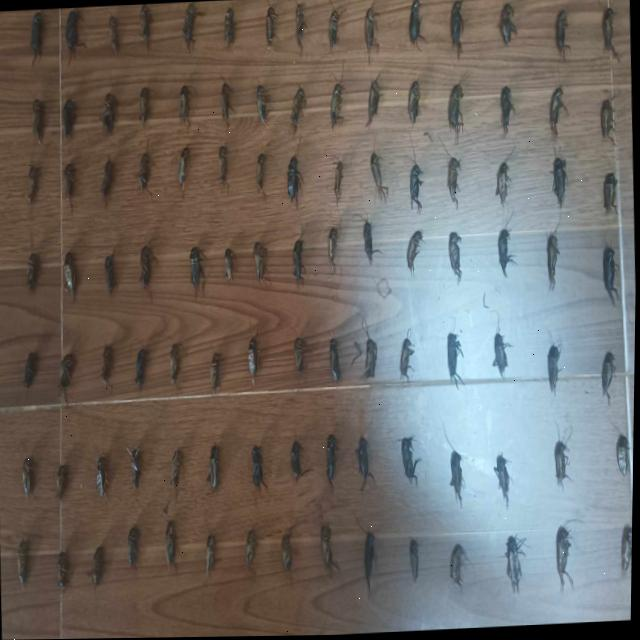no egg: (602, 15, 619, 62), (496, 469, 514, 509), (451, 461, 466, 509), (371, 164, 389, 203), (602, 356, 617, 401), (604, 262, 619, 306), (365, 549, 379, 596), (550, 100, 567, 136), (552, 169, 567, 209), (405, 451, 422, 486), (555, 24, 571, 61), (501, 95, 514, 137), (449, 245, 463, 284), (358, 454, 375, 486), (507, 554, 523, 588), (450, 12, 463, 53), (364, 18, 376, 62), (253, 457, 268, 492), (449, 343, 461, 386), (622, 535, 634, 578), (615, 449, 631, 481), (407, 239, 420, 278), (493, 348, 509, 379), (448, 98, 463, 131), (182, 14, 195, 52), (65, 19, 79, 54), (556, 454, 571, 486), (558, 551, 572, 585), (410, 174, 422, 213), (548, 249, 560, 288), (166, 537, 179, 573), (548, 360, 562, 393), (364, 229, 378, 261), (323, 541, 339, 569), (499, 241, 511, 278), (64, 264, 77, 298), (295, 12, 306, 52), (288, 170, 302, 201), (500, 17, 515, 45), (30, 21, 42, 56), (331, 349, 343, 384), (17, 554, 29, 588), (496, 178, 511, 205), (290, 102, 305, 129), (128, 462, 143, 489), (105, 262, 117, 295), (601, 111, 615, 139), (191, 260, 201, 299), (140, 257, 152, 289), (366, 98, 379, 127), (33, 109, 44, 143), (448, 171, 460, 202), (61, 359, 73, 390), (604, 186, 617, 214), (101, 168, 112, 201), (136, 357, 147, 389), (327, 453, 337, 488), (98, 465, 108, 500), (331, 93, 343, 122), (254, 169, 266, 198), (129, 539, 141, 568), (246, 542, 258, 571), (451, 557, 463, 586), (265, 18, 276, 49), (100, 108, 113, 134), (90, 562, 103, 588), (257, 94, 267, 127), (211, 362, 222, 392), (210, 460, 221, 490), (59, 563, 70, 593), (102, 358, 115, 383), (411, 547, 420, 583), (292, 457, 304, 483), (409, 12, 419, 43), (328, 18, 338, 49), (64, 108, 74, 139), (28, 169, 37, 203), (57, 475, 69, 500), (248, 354, 261, 377), (255, 254, 266, 281), (139, 97, 149, 126), (171, 356, 181, 385), (284, 551, 294, 580), (24, 470, 35, 496), (140, 19, 149, 50), (365, 357, 377, 380), (179, 99, 190, 124), (24, 363, 35, 388), (178, 159, 188, 186), (294, 252, 303, 282), (172, 463, 181, 493), (28, 265, 39, 289), (208, 546, 217, 575), (409, 97, 419, 123), (219, 157, 228, 185), (225, 21, 235, 46), (225, 257, 235, 282), (329, 239, 337, 270), (64, 177, 75, 199), (295, 351, 305, 375), (401, 354, 410, 380), (139, 168, 149, 191), (110, 27, 119, 52), (222, 98, 230, 125), (334, 175, 342, 202), (353, 576, 361, 583), (141, 91, 149, 95), (60, 468, 68, 471), (336, 166, 340, 171)
